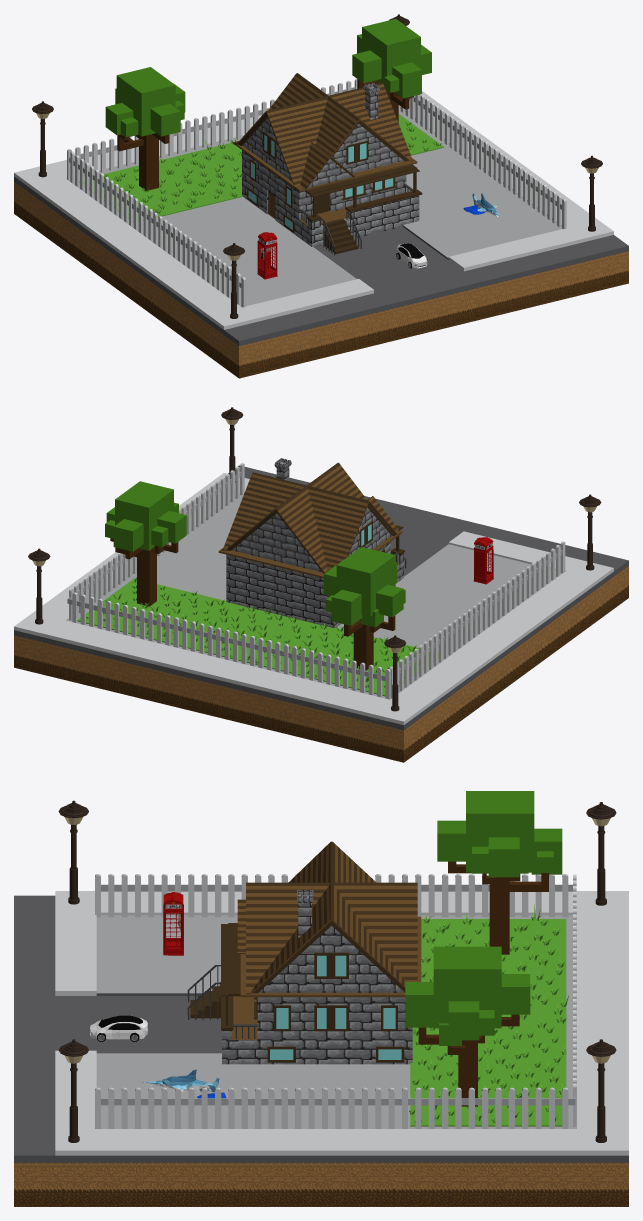
The picture shows the model from 3 angles, top to bottom: view 1: azimuth 30°, elevation 25°; view 2: azimuth 150°, elevation 25°; view 3: azimuth 270°, elevation 25°; orthographic projection. The views are drawn at different scales.
Visible parts, largest first — view 1: Cube.004, Cube.586, OBJRANDOM_PHONEBOOTH, VEHICLES_TESLA; view 2: Cube.004, Cube.586, OBJRANDOM_PHONEBOOTH; view 3: Cube.004, Cube.586, VEHICLES_TESLA, OBJRANDOM_PHONEBOOTH, ANIMAL_PEZ_ESPADA.
Boxes of the visible parts, x1,y1,x2,y2 form: Cube.004: [14, 14, 628, 378]; Cube.586: [233, 73, 422, 255]; OBJRANDOM_PHONEBOOTH: [257, 232, 277, 279]; VEHICLES_TESLA: [396, 243, 427, 268]; Cube.004: [14, 407, 628, 762]; Cube.586: [218, 458, 406, 627]; OBJRANDOM_PHONEBOOTH: [473, 537, 493, 584]; Cube.004: [14, 791, 628, 1206]; Cube.586: [187, 841, 421, 1064]; VEHICLES_TESLA: [90, 1015, 148, 1041]; OBJRANDOM_PHONEBOOTH: [163, 892, 183, 955]; ANIMAL_PEZ_ESPADA: [141, 1069, 226, 1098].
Size of the model in its own units: 4000 by 1588 by 4000.
Materials: 40 (4 with a texture image).
